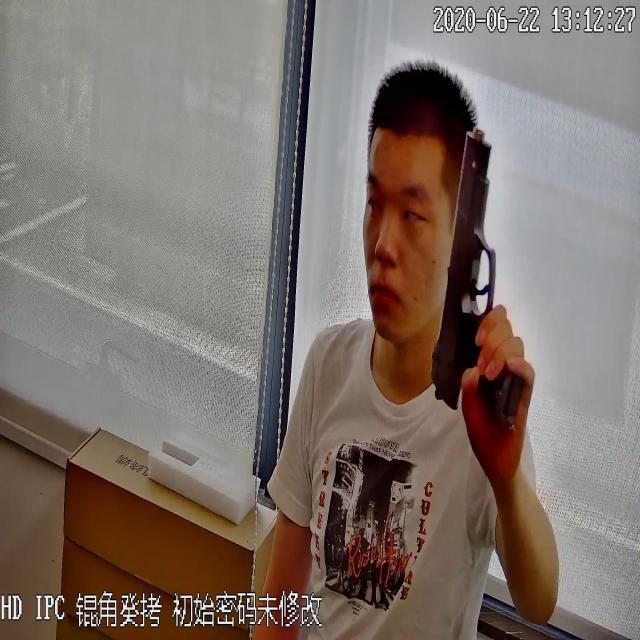gun-knife-thesis - v11 Yolov5 augmented: (427, 125, 530, 435)
